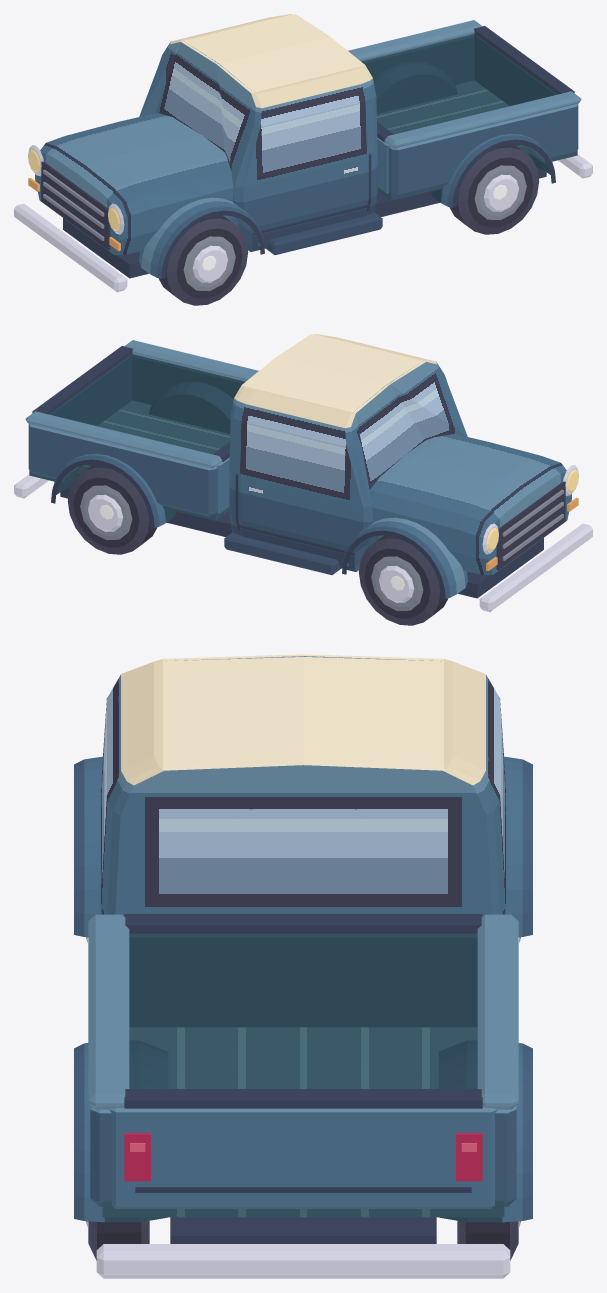
3 views of the same model, one above another, from view 1: azimuth 30°, elevation 25°; view 2: azimuth 150°, elevation 25°; view 3: azimuth 270°, elevation 25° (orthographic). The views are drawn at different scales.
Parts seen in each view (by area): view 1: Body_static, Wheel_FL_tire_hub, Wheel_RL_tire_hub; view 2: Body_static, Wheel_FR_tire_hub, Wheel_RR_tire_hub; view 3: Body_static, Wheel_RL_tire_hub, Wheel_RR_tire_hub.
Part boxes in pixels (left/top/right/bottom): Body_static: left=14, top=14, right=592, bottom=292; Wheel_FL_tire_hub: left=158, top=215, right=248, bottom=305; Wheel_RL_tire_hub: left=449, top=144, right=539, bottom=234; Body_static: left=14, top=334, right=592, bottom=612; Wheel_FR_tire_hub: left=358, top=535, right=448, bottom=625; Wheel_RR_tire_hub: left=67, top=464, right=157, bottom=554; Body_static: left=74, top=654, right=532, bottom=1278; Wheel_RL_tire_hub: left=86, top=1220, right=149, bottom=1260; Wheel_RR_tire_hub: left=457, top=1220, right=520, bottom=1260.
Size of the model in its own units: 93.91 by 35.13 by 38.96.
Materials: 1 (1 with a texture image).
